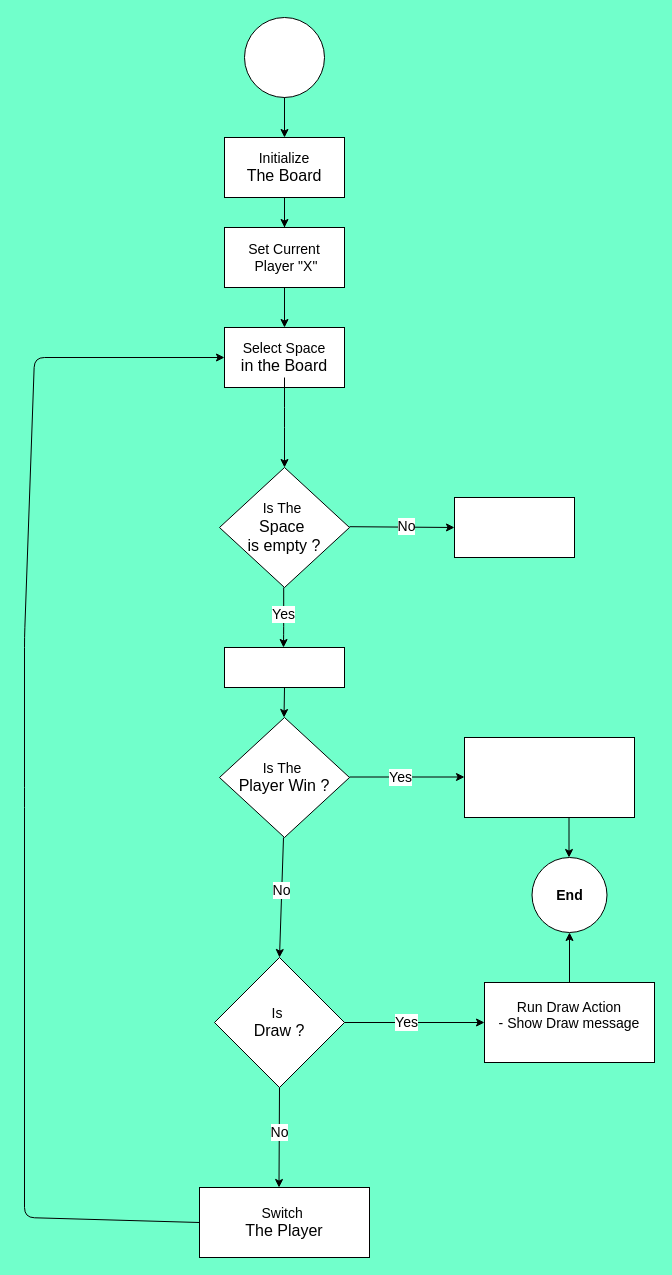
Image size: 672x1275. Some labels were removed from this diagram. The shapes that lost their labels are listed below. From the top down, each one's box as (x1, y1, x2, y2) in pixels, then its label:
(244, 16, 324, 98): Start
(454, 496, 574, 558): Do Nothing
(224, 646, 344, 688): Select a space on the board
(464, 736, 634, 818): Run Win Action - Show Wining message - Increase Score
